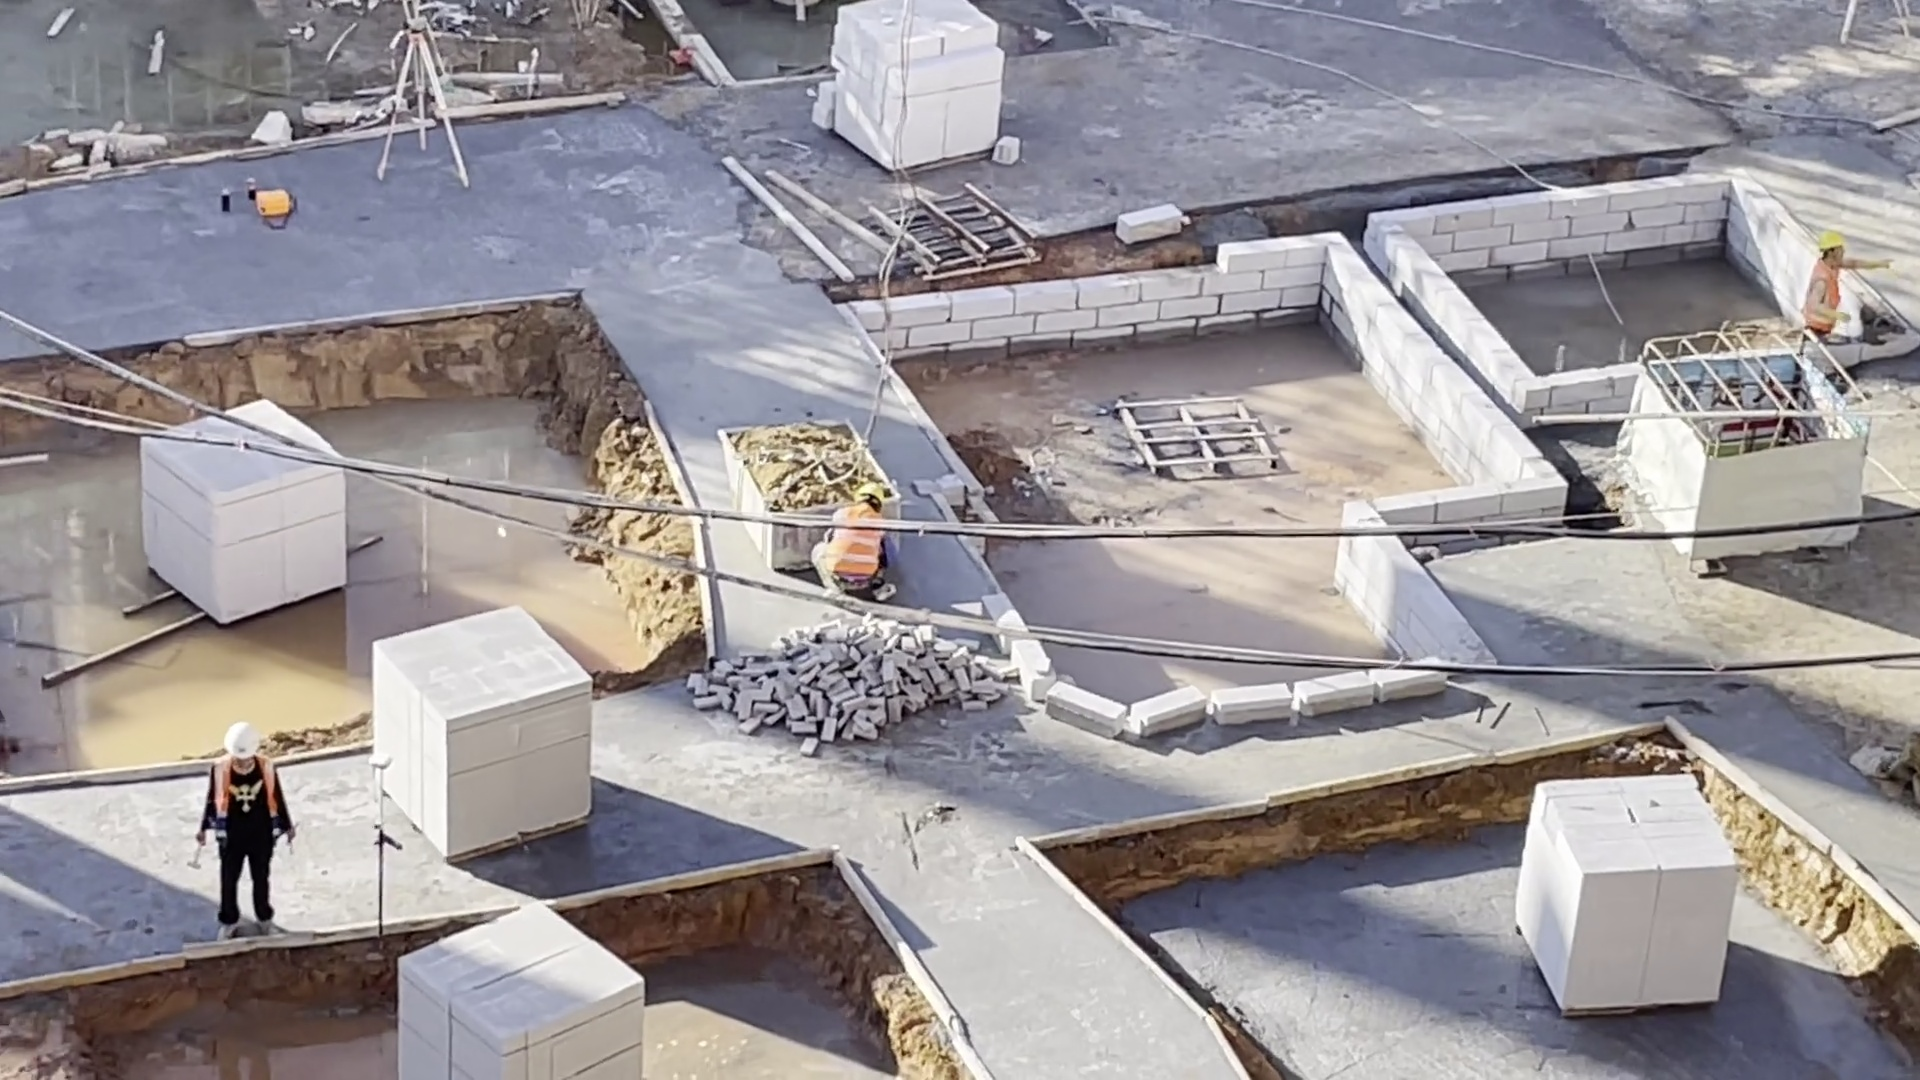brick: (371, 601, 597, 857), (1505, 771, 1739, 1017), (399, 901, 661, 1080), (809, 2, 1023, 182), (126, 471, 354, 628)
helmet: (217, 722, 265, 763), (854, 478, 885, 508), (1816, 229, 1844, 252)
hopper: (714, 417, 811, 512)
person: (198, 719, 304, 938), (805, 477, 901, 603), (1798, 229, 1899, 340)
vest: (210, 753, 280, 845), (1805, 259, 1841, 335), (825, 529, 881, 575)
